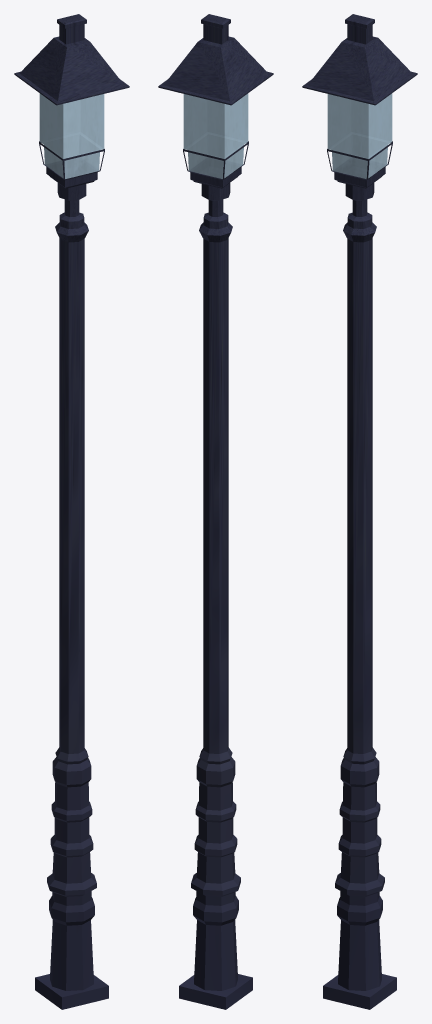
The model's file is streetlamp.glb.
3 renders of one model, left to right at view 1: azimuth 30°, elevation 25°; view 2: azimuth 150°, elevation 25°; view 3: azimuth 330°, elevation 25°, orthographic.
Visible parts, largest first — view 1: Lamp; view 2: Lamp; view 3: Lamp.
Boxes of the visible parts, x1,y1,x2,y2 form: Lamp: (14,14,129,1009); Lamp: (158,14,273,1009); Lamp: (302,14,417,1009).
Size of the model in its own units: 0.3115 by 3.97 by 0.3115.
2 materials, 2 textured.
